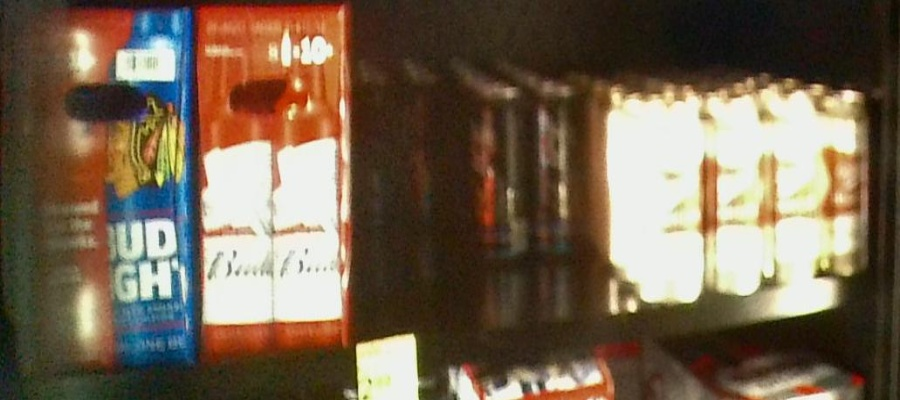bottle: (7, 3, 196, 367), (196, 3, 347, 349), (626, 102, 770, 306), (459, 87, 575, 258), (769, 102, 869, 276), (357, 78, 443, 224)
